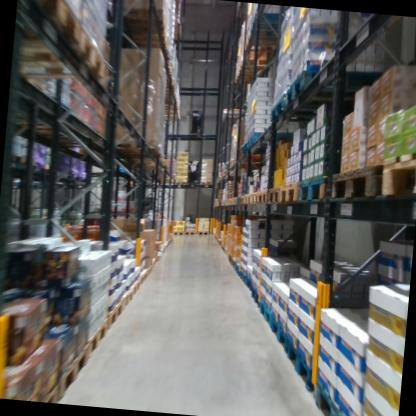pallet: (11, 22, 114, 97), (282, 61, 403, 117), (15, 0, 92, 57), (265, 91, 350, 132), (326, 159, 384, 209), (109, 0, 175, 36), (311, 370, 362, 416), (55, 340, 89, 404), (376, 151, 416, 204), (282, 340, 321, 390), (76, 313, 108, 373), (105, 133, 165, 161), (248, 6, 293, 39), (297, 162, 327, 209), (119, 28, 173, 54), (94, 298, 125, 339), (235, 52, 282, 78), (246, 129, 296, 152), (267, 311, 291, 355), (244, 30, 284, 56), (239, 142, 296, 160), (133, 151, 170, 175), (279, 176, 300, 209), (116, 287, 134, 321), (123, 279, 142, 306), (266, 182, 281, 212), (158, 105, 183, 122), (249, 288, 263, 318), (258, 300, 271, 332), (41, 381, 61, 401), (256, 185, 270, 211), (186, 178, 200, 193), (246, 276, 255, 298), (174, 177, 188, 191), (250, 190, 258, 207), (243, 189, 251, 206), (174, 227, 184, 239), (200, 178, 213, 186), (240, 191, 246, 208), (198, 229, 209, 238), (183, 230, 197, 237), (234, 196, 240, 208)
